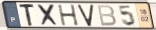5: (117, 5, 136, 27)
B: (96, 5, 118, 27)
H: (57, 4, 80, 27)
T: (19, 3, 36, 27)
V: (77, 4, 95, 27)
X: (37, 4, 60, 27)
